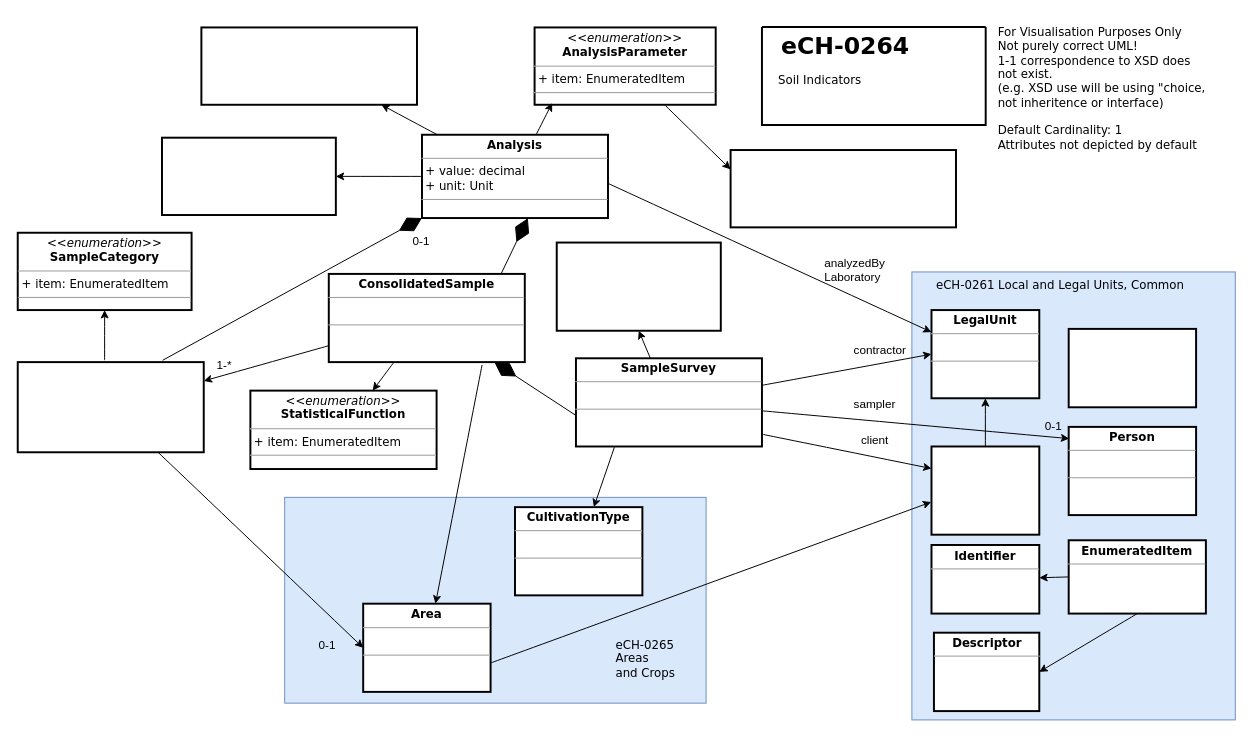
The diagram is 1252 pixels wide and 737 high, and some of its shapes have lost their labels. The shapes that lost their labels are listed below. From the top down, each one's centre as x and y in pixels, then its label:
(x=308, y=65): <<enumeration>> AnalysisMethodCharacteristic + item: EnumeratedItem
(x=248, y=176): <<enumeration>> AnalysisMethod + item: EnumeratedItem
(x=842, y=188): <<enumeration>> AnalysisParameterGroup + item: EnumeratedItem
(x=638, y=286): <<enumeration>> SampleSurvey Category + item: EnumeratedItem
(x=1132, y=367): <<enumeration>> Unit
(x=110, y=407): Sample
(x=985, y=490): LocalUnit
